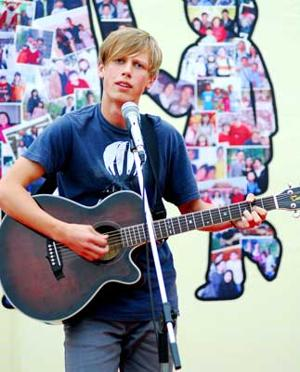person: (3, 29, 267, 372)
